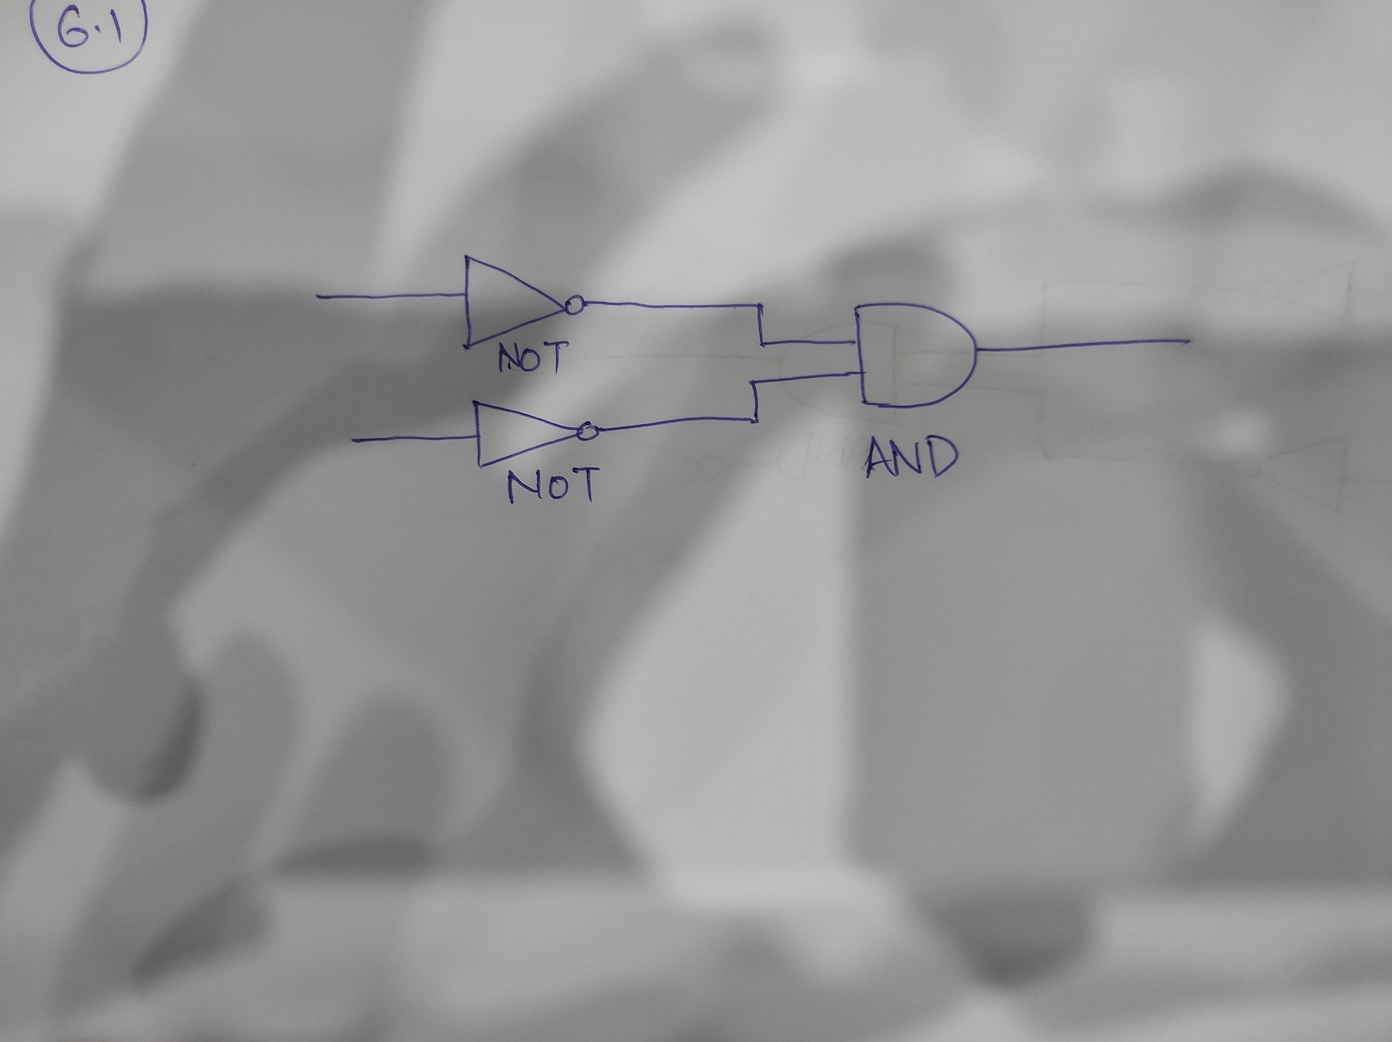and: (846, 297, 984, 412)
junction: (747, 296, 769, 316), (745, 412, 765, 429), (753, 335, 770, 352), (744, 375, 762, 390)
not: (460, 251, 590, 352), (468, 396, 604, 468)
terminal: (1169, 329, 1200, 352), (305, 289, 335, 306), (341, 431, 367, 450)
text: (858, 430, 962, 482), (504, 463, 605, 509), (492, 339, 573, 380)
